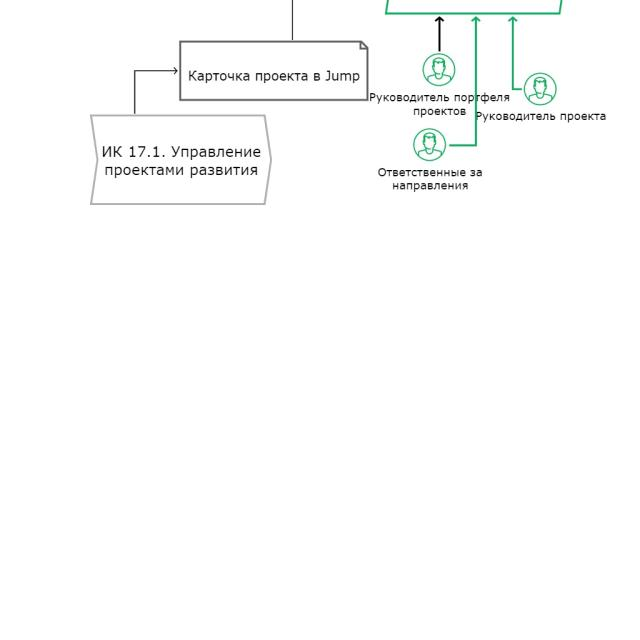arrow: (113, 49, 178, 114), (450, 16, 480, 147), (508, 17, 521, 91), (435, 17, 443, 52)
circle: (524, 73, 556, 105), (414, 129, 446, 161), (423, 54, 455, 86)
rectangle: (89, 115, 272, 206), (180, 41, 368, 100)
text_region: (370, 91, 511, 118), (378, 167, 482, 193), (478, 109, 608, 124)
